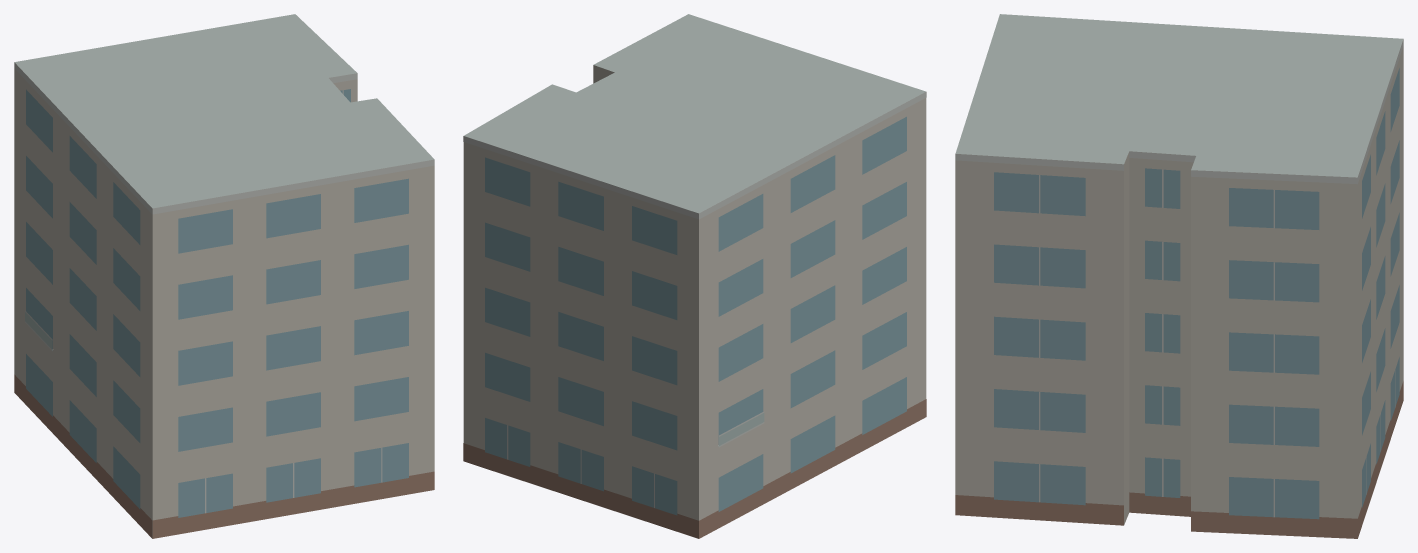
The model's file is survey-upis-32892727.glb.
3 views of the same model, side by side, from view 1: azimuth 30°, elevation 25°; view 2: azimuth 150°, elevation 25°; view 3: azimuth 270°, elevation 25° (orthographic). The views are drawn at different scales.
Visible parts, largest first — view 1: survey-upis-32892727.tmp; view 2: survey-upis-32892727.tmp; view 3: survey-upis-32892727.tmp.
Part boxes in pixels (x1,y1,x2,y2): survey-upis-32892727.tmp: [14, 14, 434, 538]; survey-upis-32892727.tmp: [463, 14, 926, 538]; survey-upis-32892727.tmp: [955, 14, 1403, 538].
Bounding box in the file's own units: 12.87 × 13.25 × 14.9.
